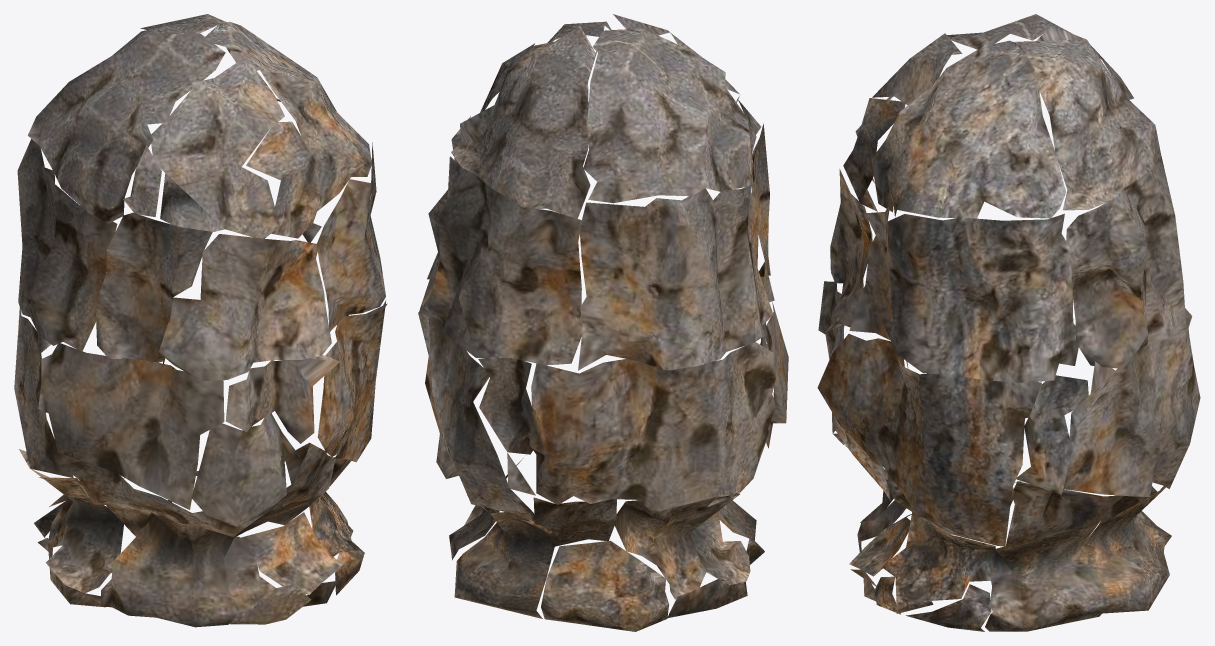
File: boulder.glb
3 views of the same model, side by side, from view 1: azimuth 30°, elevation 25°; view 2: azimuth 150°, elevation 25°; view 3: azimuth 270°, elevation 25° (orthographic).
Parts seen in each view (by area): view 1: tripo_node_c00fa2ca-5327-4587-b1ff-383bf301f425; view 2: tripo_node_c00fa2ca-5327-4587-b1ff-383bf301f425; view 3: tripo_node_c00fa2ca-5327-4587-b1ff-383bf301f425.
Part boxes in pixels (x1,y1,x2,y2): tripo_node_c00fa2ca-5327-4587-b1ff-383bf301f425: [14, 14, 387, 627]; tripo_node_c00fa2ca-5327-4587-b1ff-383bf301f425: [418, 14, 788, 631]; tripo_node_c00fa2ca-5327-4587-b1ff-383bf301f425: [817, 14, 1200, 631].
Bounding box in the file's own units: 0.6434 × 1 × 0.6383.
Materials: 1 (1 with a texture image).
